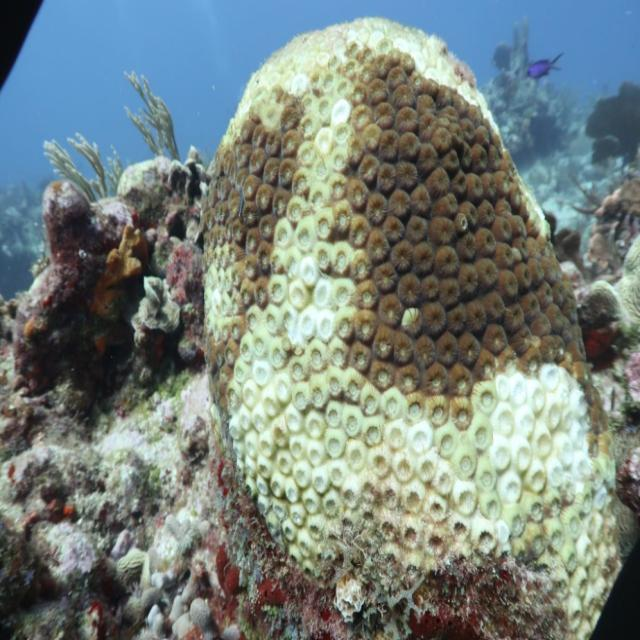Coral: (203, 15, 640, 640)
